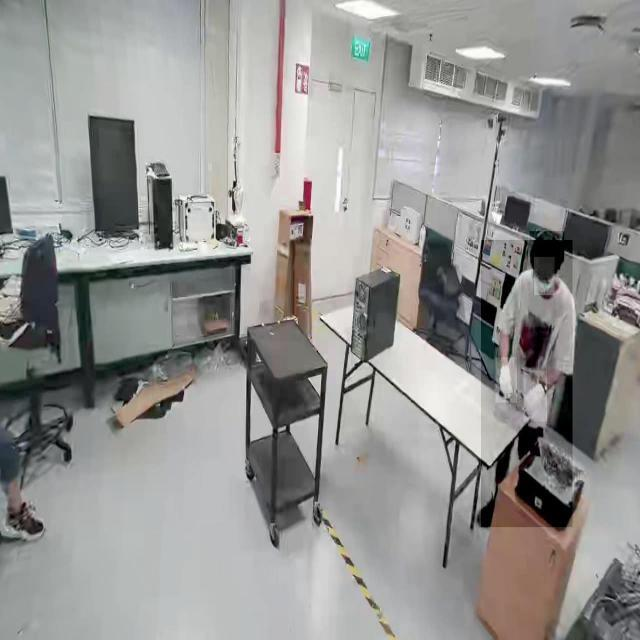gloves: (524, 370, 548, 422), (495, 357, 517, 403)
